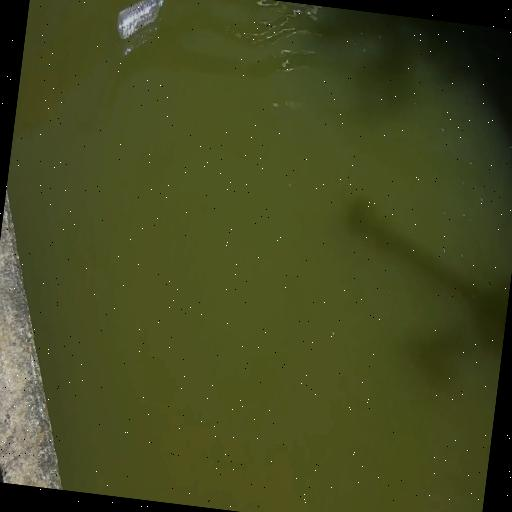plastic: (113, 0, 166, 46)
